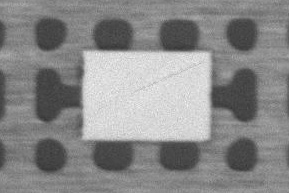DIE_CRACK: (196, 41, 289, 62)
